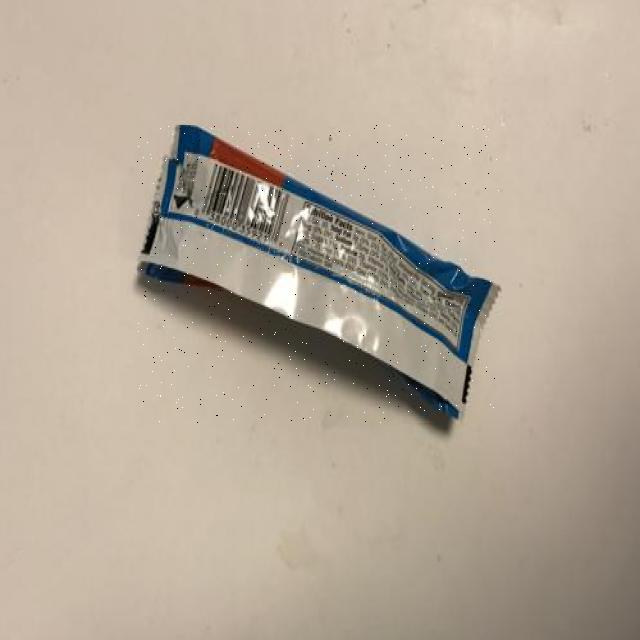wrapper: (137, 126, 500, 423)
